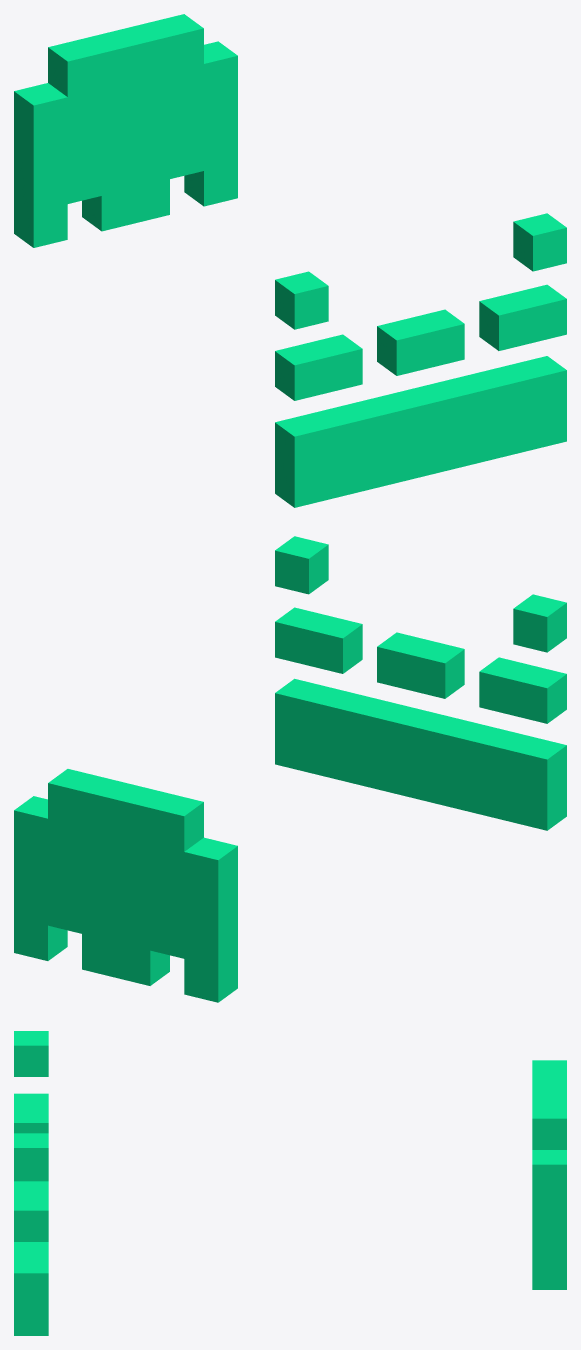
3 views of the same model, one above another, from view 1: azimuth 30°, elevation 25°; view 2: azimuth 150°, elevation 25°; view 3: azimuth 270°, elevation 25° (orthographic). The views are drawn at different scales.
Visible parts, largest first — view 1: 314.1; view 2: 314.1; view 3: 314.1.
Boxes of the visible parts, x1=… form: 314.1: x1=14, y1=14, x2=566, y2=507; 314.1: x1=14, y1=536, x2=566, y2=1002; 314.1: x1=14, y1=1031, x2=566, y2=1335.
Bounding box in the file's own units: 80 × 60 × 160.
Materials: 1 (1 with a texture image).
